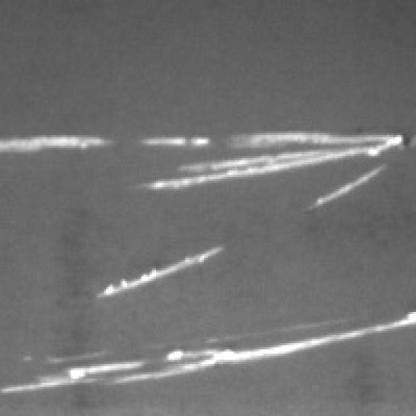scratches: (0, 316, 412, 398), (129, 135, 408, 215), (91, 243, 223, 304), (0, 132, 121, 166)
